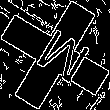M_SW: (22, 21, 88, 89)
